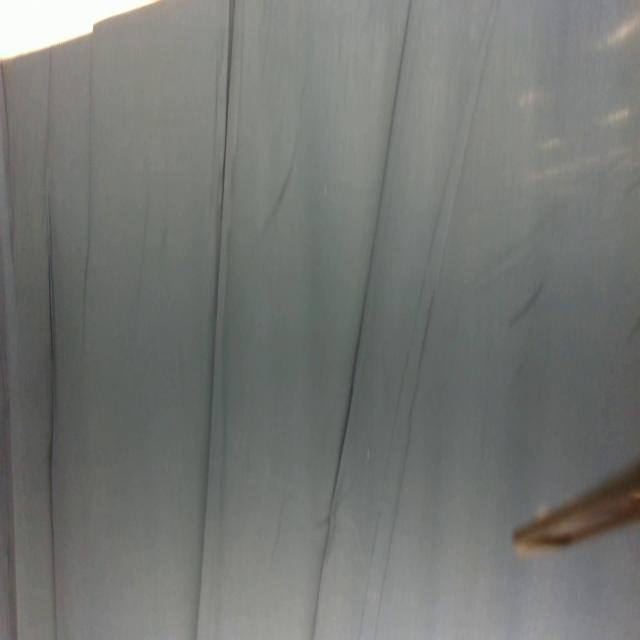crease: (358, 0, 502, 636), (311, 0, 413, 639), (196, 0, 237, 640), (45, 198, 59, 638), (78, 34, 96, 353)
